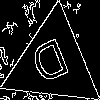D: (28, 37, 75, 94)
